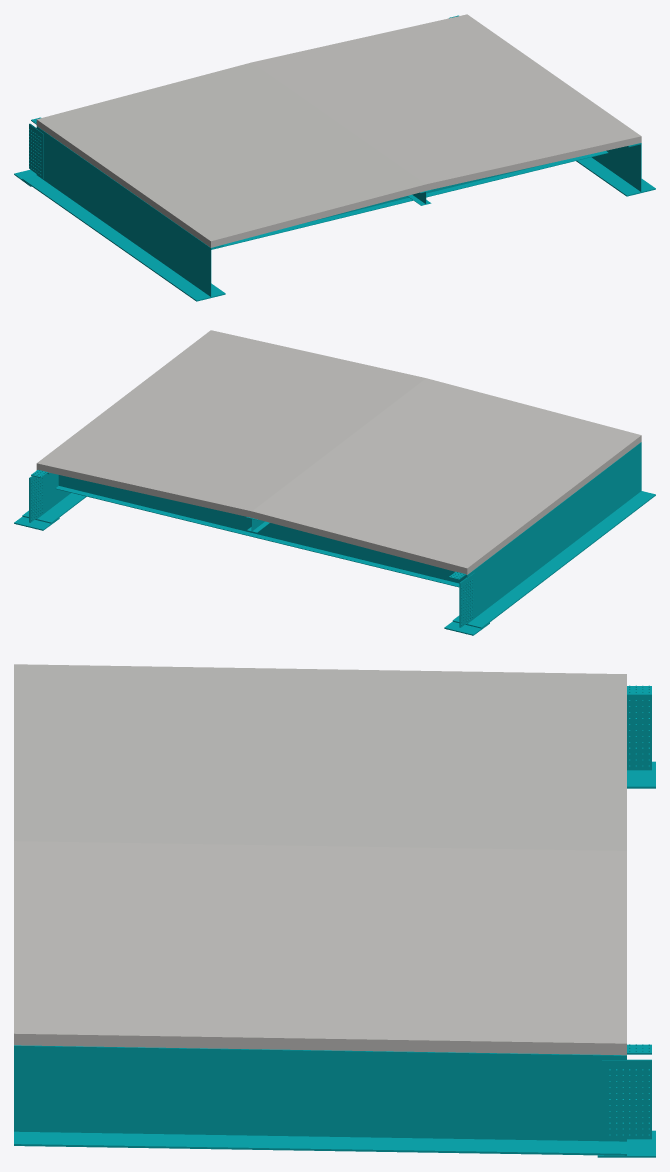
The model's file is DECK_SS04.glb.
3 views of the same model, one above another, from view 1: azimuth 30°, elevation 25°; view 2: azimuth 150°, elevation 25°; view 3: azimuth 270°, elevation 25° (orthographic). The views are drawn at different scales.
Visible parts, largest first — view 1: SS04_Slab_15, SS04_G_W_0, SS04_G_E_1, SS04_FB_bf_14, SS04_SpliceW_17, SS04_FB_web_11; view 2: SS04_Slab_15, SS04_G_W_0, SS04_FB_web_3, SS04_FB_bf_6, SS04_G_E_1, SS04_SpliceW_17, SS04_SpliceW_25; view 3: SS04_Slab_15, SS04_G_E_1, SS04_SpliceW_26, SS04_SpliceW_18.
Boxes of the visible parts, bbox=[...] form: SS04_Slab_15: bbox=[36, 14, 641, 247]; SS04_G_W_0: bbox=[22, 126, 225, 301]; SS04_G_E_1: bbox=[576, 143, 655, 196]; SS04_FB_bf_14: bbox=[211, 151, 608, 249]; SS04_SpliceW_17: bbox=[29, 123, 43, 178]; SS04_FB_web_11: bbox=[307, 163, 549, 222]; SS04_Slab_15: bbox=[36, 330, 641, 574]; SS04_G_W_0: bbox=[452, 442, 655, 628]; SS04_FB_web_3: bbox=[58, 475, 466, 583]; SS04_FB_bf_6: bbox=[55, 486, 459, 587]; SS04_G_E_1: bbox=[22, 470, 86, 523]; SS04_SpliceW_17: bbox=[460, 573, 474, 627]; SS04_SpliceW_25: bbox=[30, 475, 44, 522]; SS04_Slab_15: bbox=[14, 664, 626, 1055]; SS04_G_E_1: bbox=[14, 1045, 626, 1155]; SS04_SpliceW_26: bbox=[602, 1060, 651, 1139]; SS04_SpliceW_18: bbox=[627, 696, 651, 770].
Bounding box in the file's own units: 18.26 × 2.61 × 12.57.
